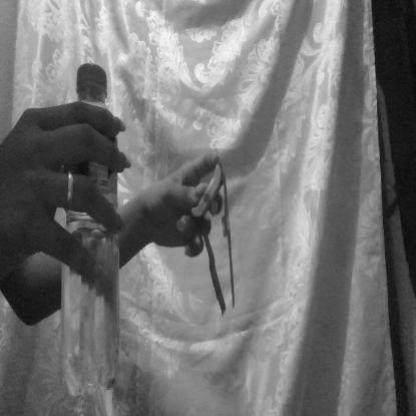Plastic Bottle: (49, 35, 136, 416)
